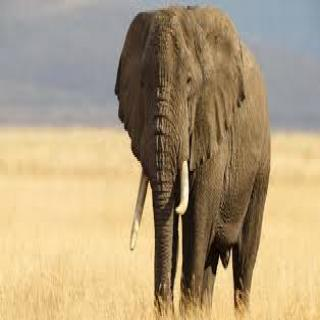Elephant: (111, 4, 270, 320)
